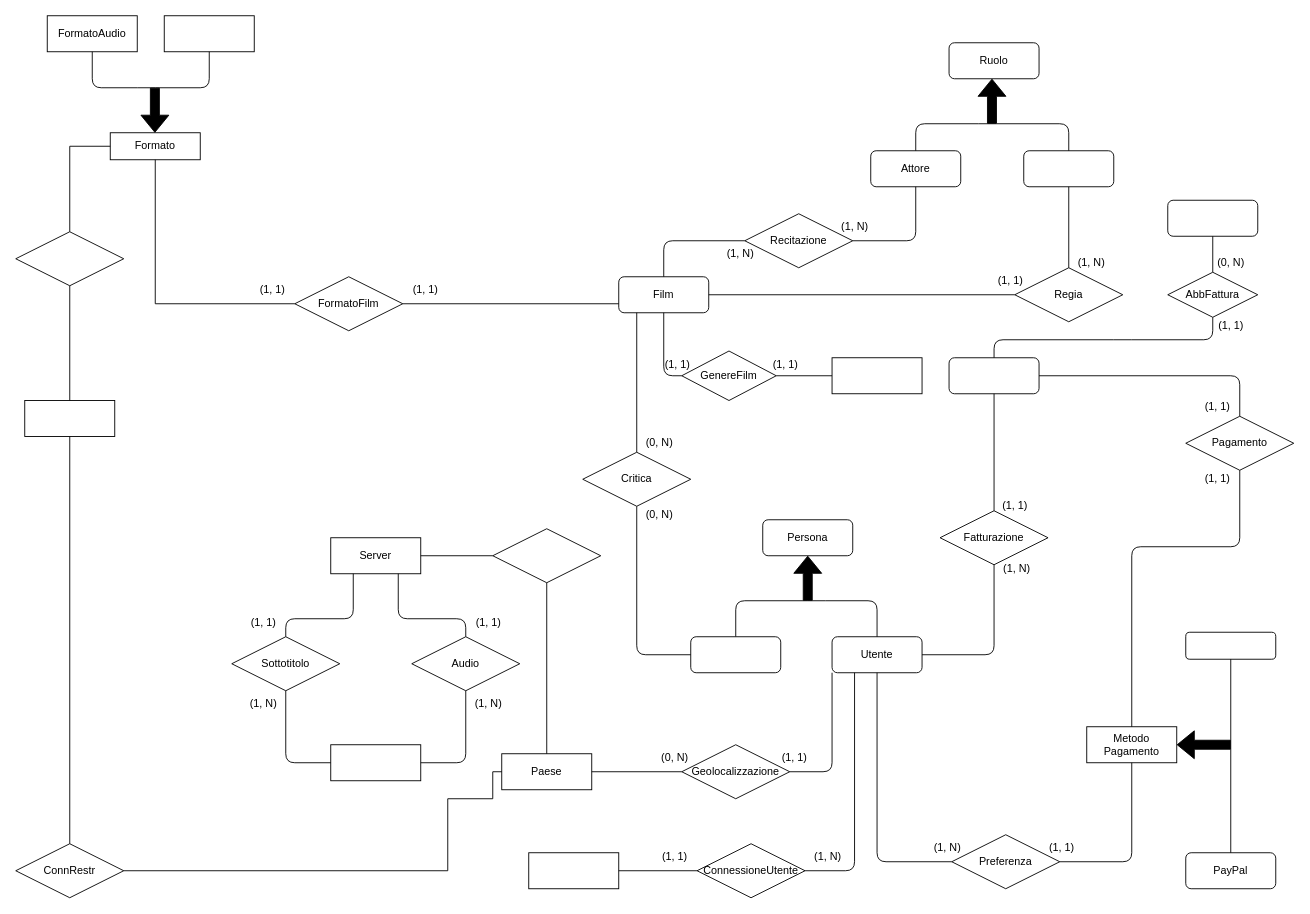
Some shapes in this 1310 by 914 pixel diagram are drawn without their labels. The box of each missing label's shape, as (x1, y1, x2, y2) in pixels:
Abbonamento: (1167, 199, 1258, 236)
Carta: (1185, 631, 1276, 659)
Connessione: (528, 852, 619, 889)
Critico: (690, 636, 781, 673)
Fattura: (948, 357, 1039, 394)
Formato Video: (163, 15, 254, 52)
FormRestr: (15, 231, 124, 286)
Genere: (831, 357, 922, 394)
Lingua: (330, 744, 421, 781)
Posizione: (492, 528, 601, 583)
Regista: (1023, 150, 1114, 187)
Restrizioni: (24, 400, 115, 436)
